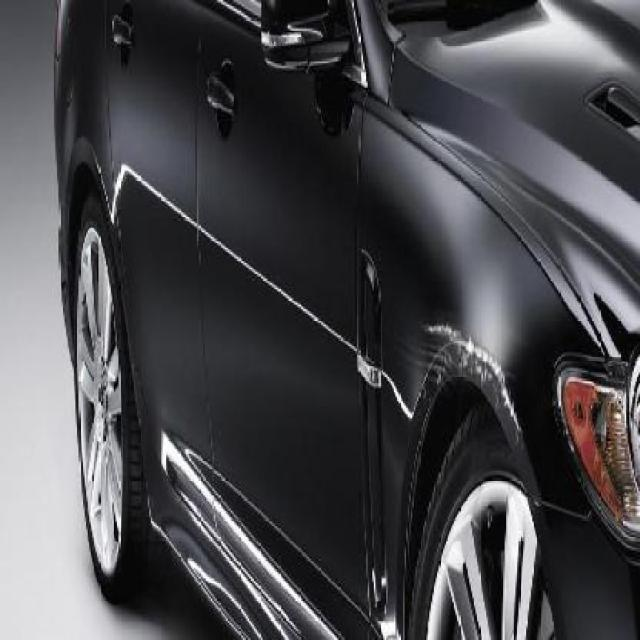scratch: (397, 304, 512, 380), (492, 380, 548, 450)
